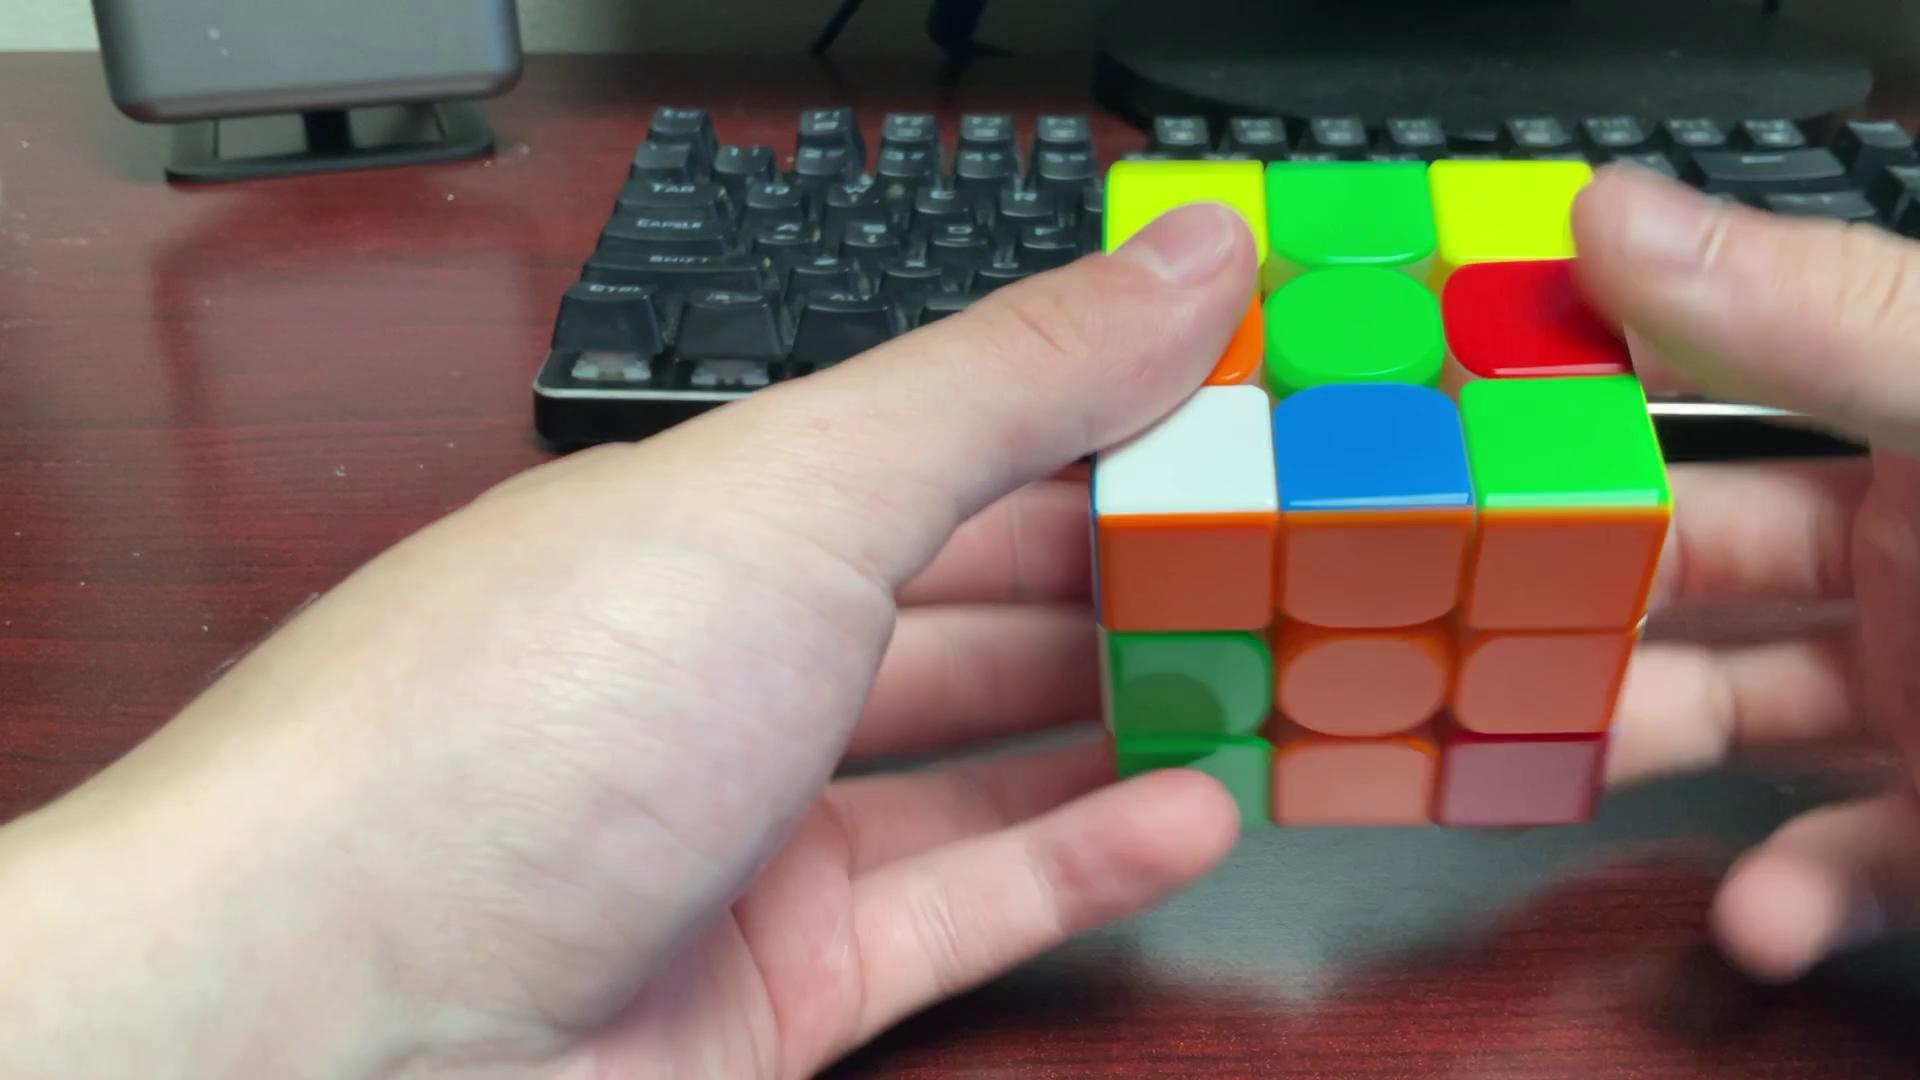Rubiks-Cube: (1084, 138, 1689, 839)
